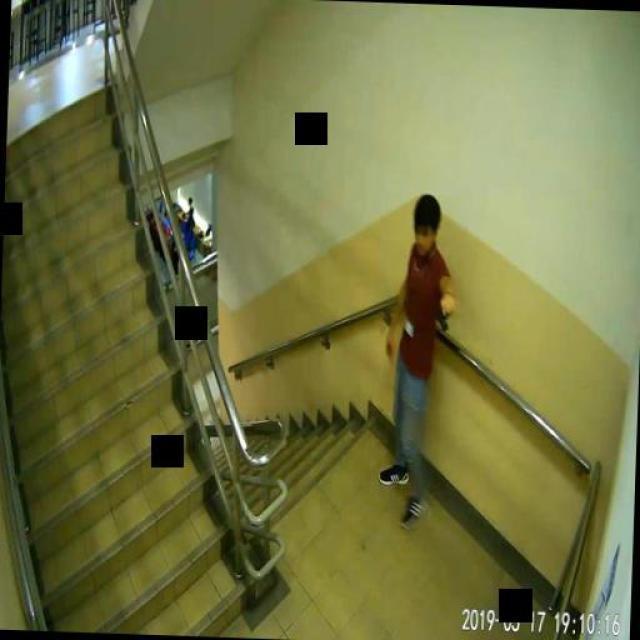gun: (432, 300, 452, 330)
